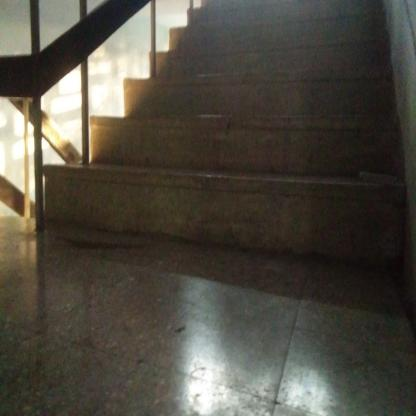stairs: (43, 69, 392, 233)
